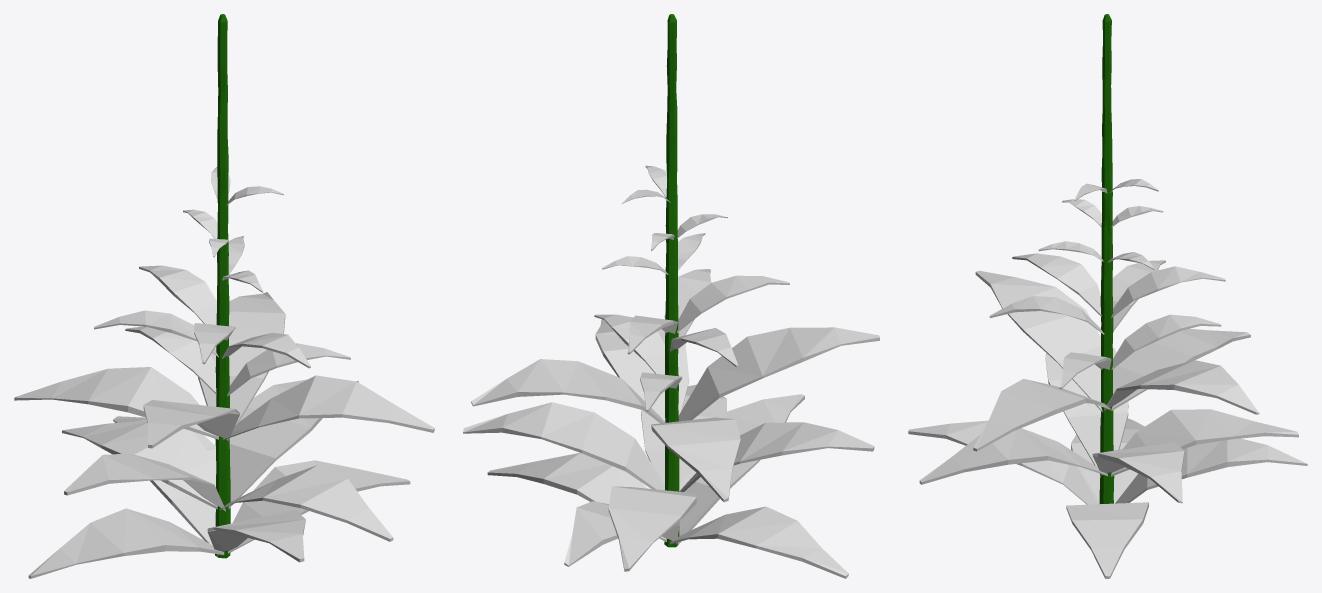
The model's file is flower_stem_leaves.fbx.
3 renders of one model, left to right at view 1: azimuth 30°, elevation 25°; view 2: azimuth 150°, elevation 25°; view 3: azimuth 270°, elevation 25°, orthographic. The views are drawn at different scales.
Parts seen in each view (by area): view 1: Leaves, Stem; view 2: Leaves, Stem; view 3: Leaves, Stem.
Part boxes in pixels (<box>): Leaves: <box>14,167,434,578</box>; Stem: <box>215,14,230,558</box>; Leaves: <box>463,165,879,578</box>; Stem: <box>664,14,679,547</box>; Leaves: <box>908,179,1307,578</box>; Stem: <box>1099,14,1114,503</box>.
Size of the model in its own units: 37.74 by 52.47 by 37.6.
